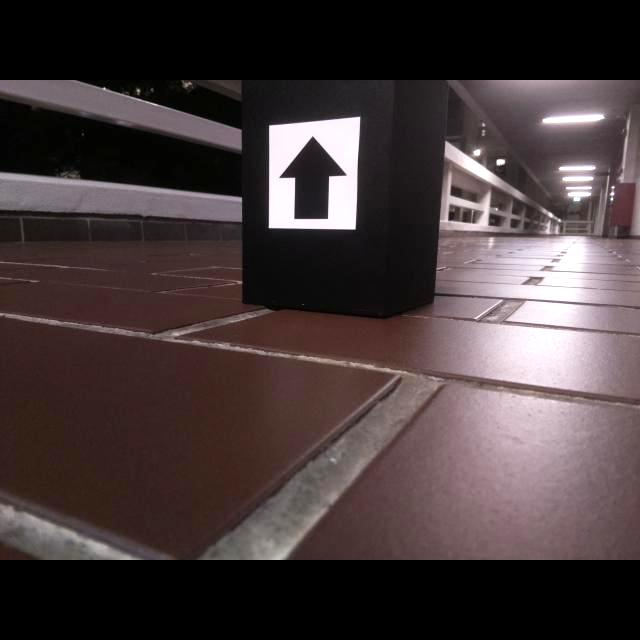UP: (277, 135, 348, 219)
